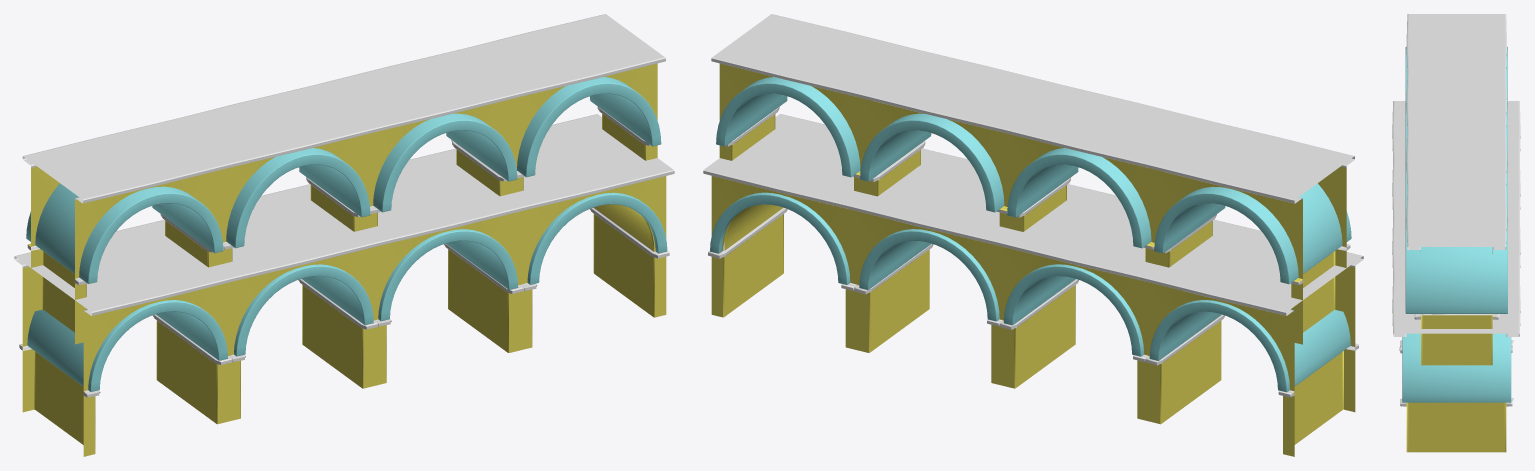
Rendered from arcoRomano.fbx.
3 renders of one model, left to right at view 1: azimuth 30°, elevation 25°; view 2: azimuth 150°, elevation 25°; view 3: azimuth 270°, elevation 25°, orthographic. The views are drawn at different scales.
Visible parts, largest first — view 1: Cube; view 2: Cube; view 3: Cube.
Part boxes in pixels (bbox=[...]): Cube: bbox=[14, 14, 674, 456]; Cube: bbox=[703, 14, 1363, 456]; Cube: bbox=[1392, 14, 1520, 452].
Bounding box in the file's own units: 10149 × 4271 × 2363.
